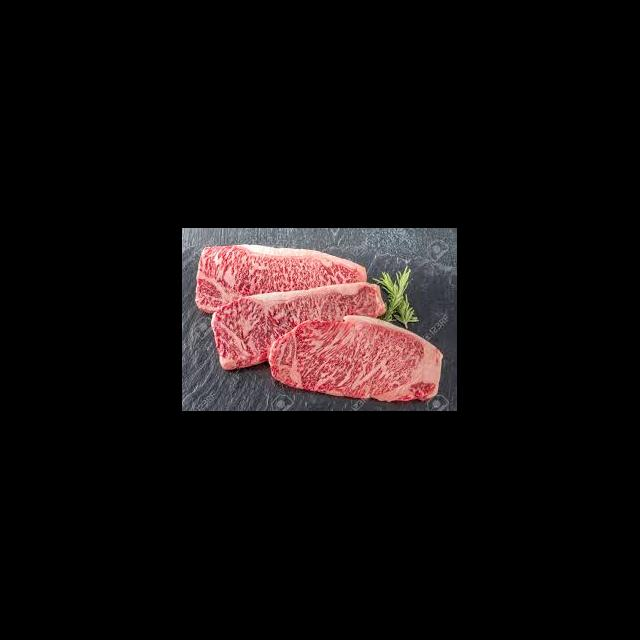beef: (200, 245, 383, 367), (270, 318, 442, 402)
